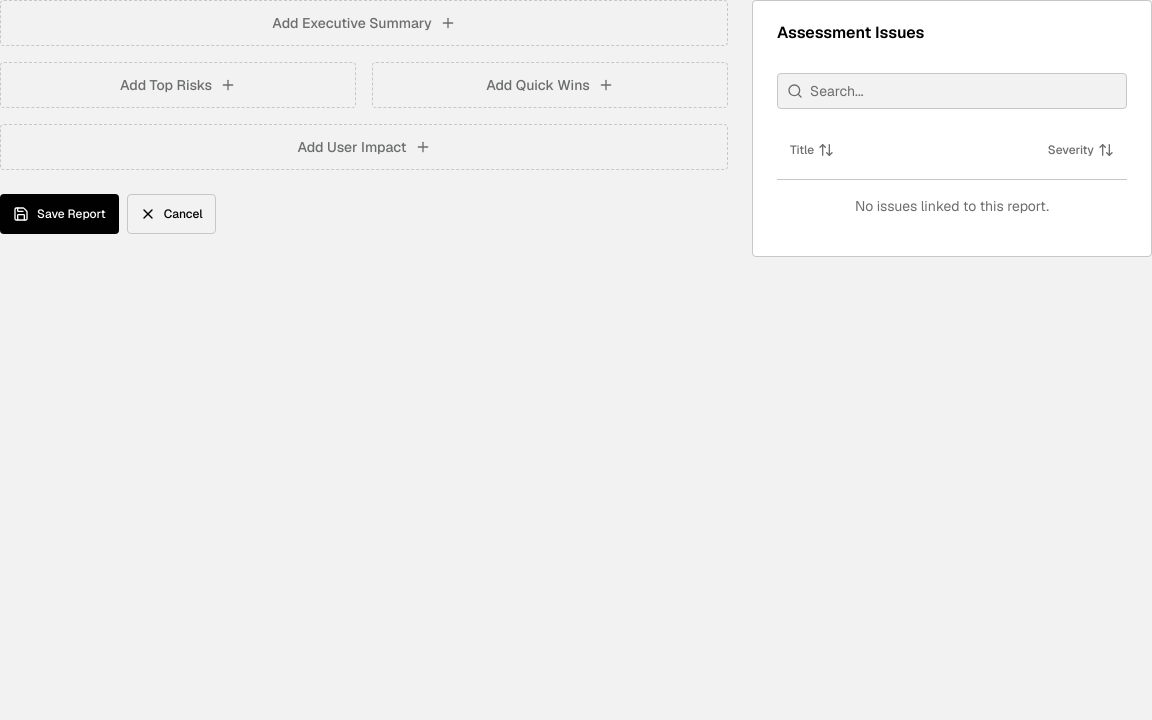
it: ReportEditForm › closes delete modal when cancel is clicked
Step 1. Click the button "Add Executive Summary" → (364, 23), box left=0, top=0, right=728, bottom=46
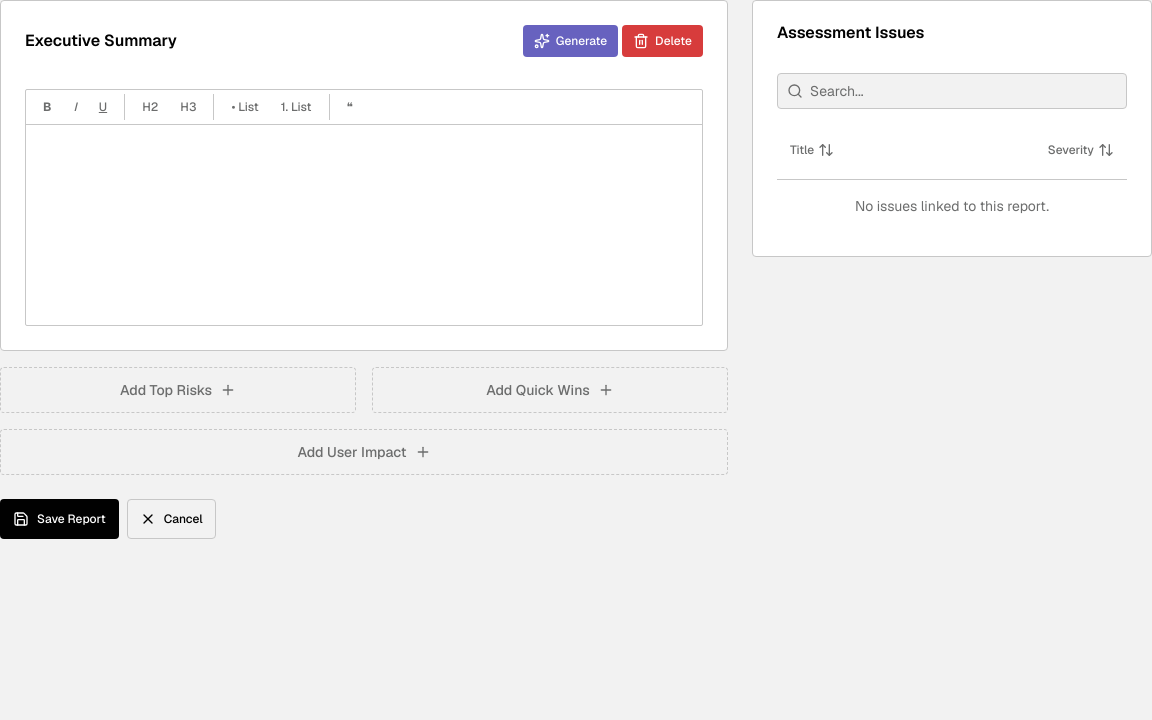
Step 2. Click the button "Delete" → (663, 41), box left=622, top=25, right=703, bottom=57
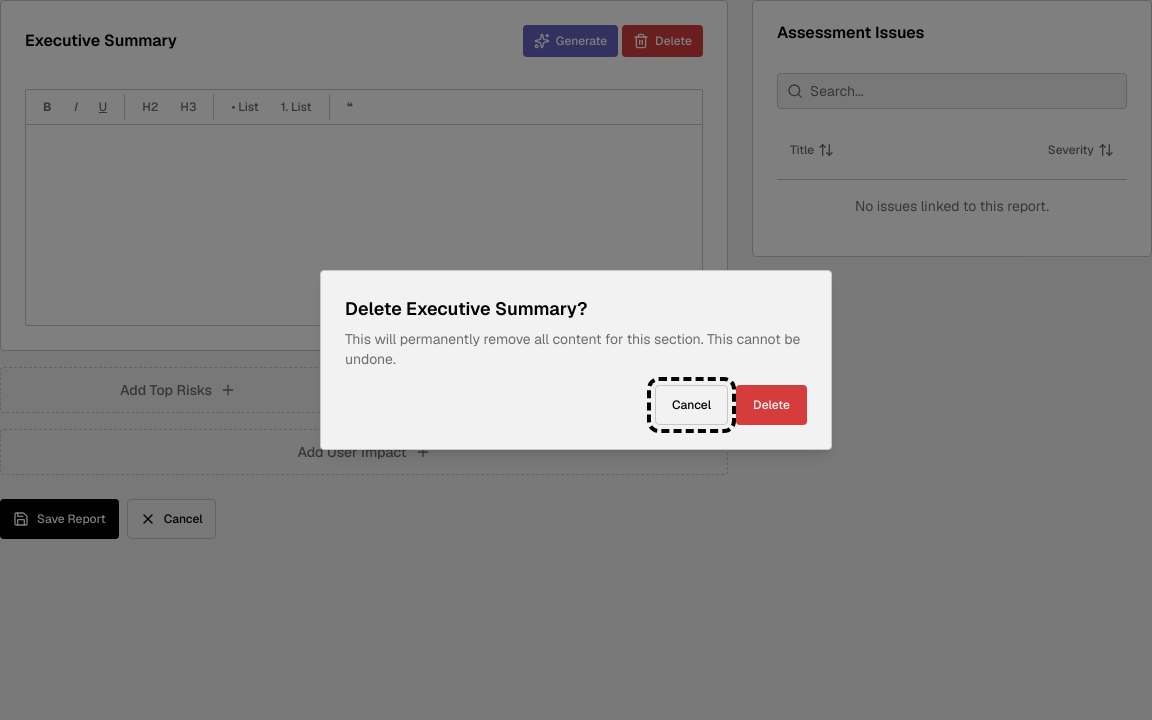
Expected: the text "permanently remove" is shown, left=345, top=330, right=800, bottom=368
Step 3. Click the button "Cancel" → (692, 405), box left=655, top=385, right=728, bottom=425
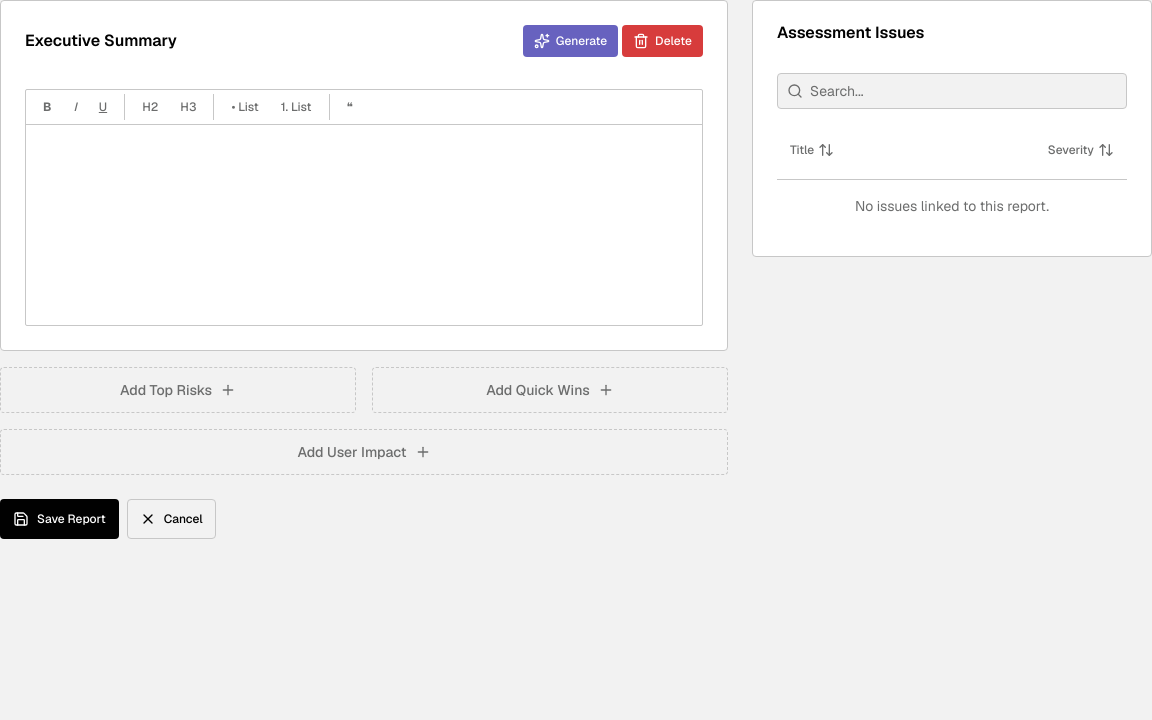
Expected: the text "permanently remove" is gone
